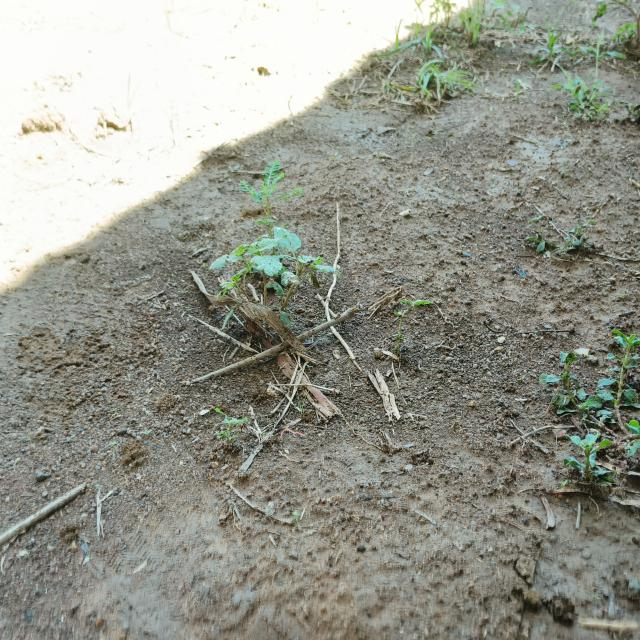weed: (546, 340, 640, 492), (221, 228, 340, 331)
